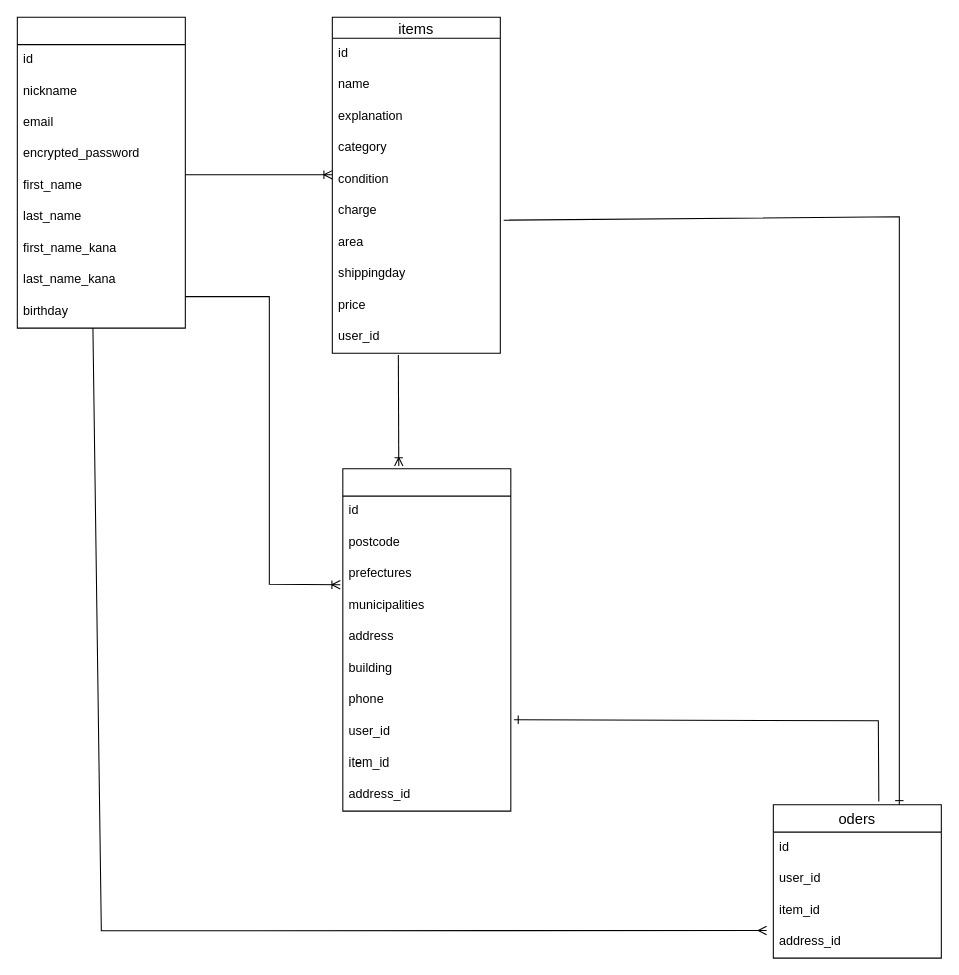
This 959x975 diagram has some shape labels left out. The shapes that lost their labels are listed below. From the top down, each one's box as (x1, y1, x2, y2) in pixels, then its label:
(16, 16, 185, 328): users
(342, 468, 511, 811): addresses
